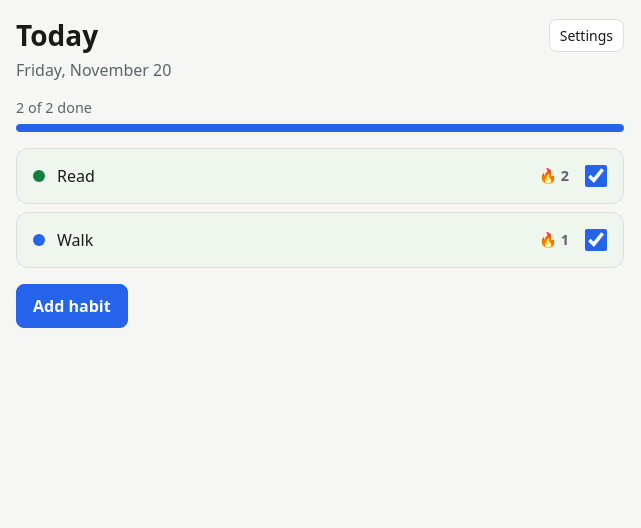
Scenario: Settings › Export › downloads all data as a dated JSON file
The width and height of the screenshot is (641, 528).
Click the button "Settings".
click(586, 36)  # box [549,19,624,52]
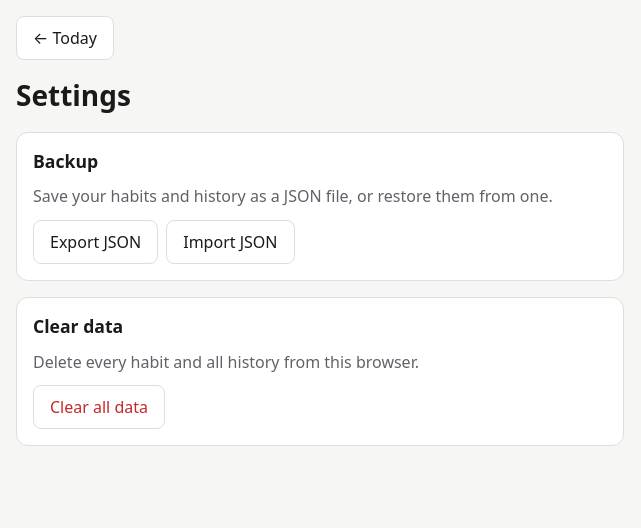
Click the button "Export JSON".
click(96, 242)  # box [33,220,158,264]
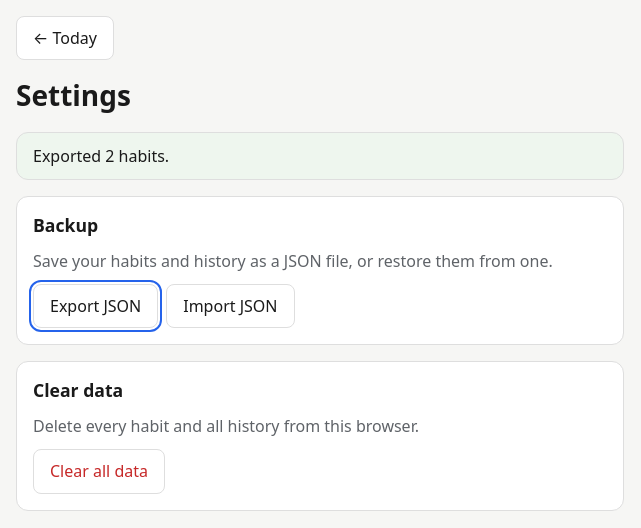
Result: the message reads "Exported 2 habits." at [33,145,169,167]
